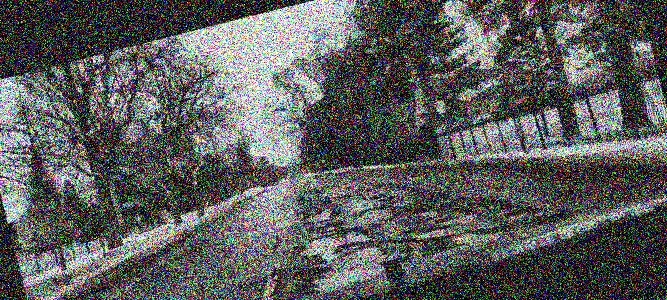pothole: (530, 206, 574, 230), (400, 218, 451, 238), (476, 192, 511, 215), (308, 219, 342, 235), (380, 258, 405, 277), (335, 238, 362, 254)
